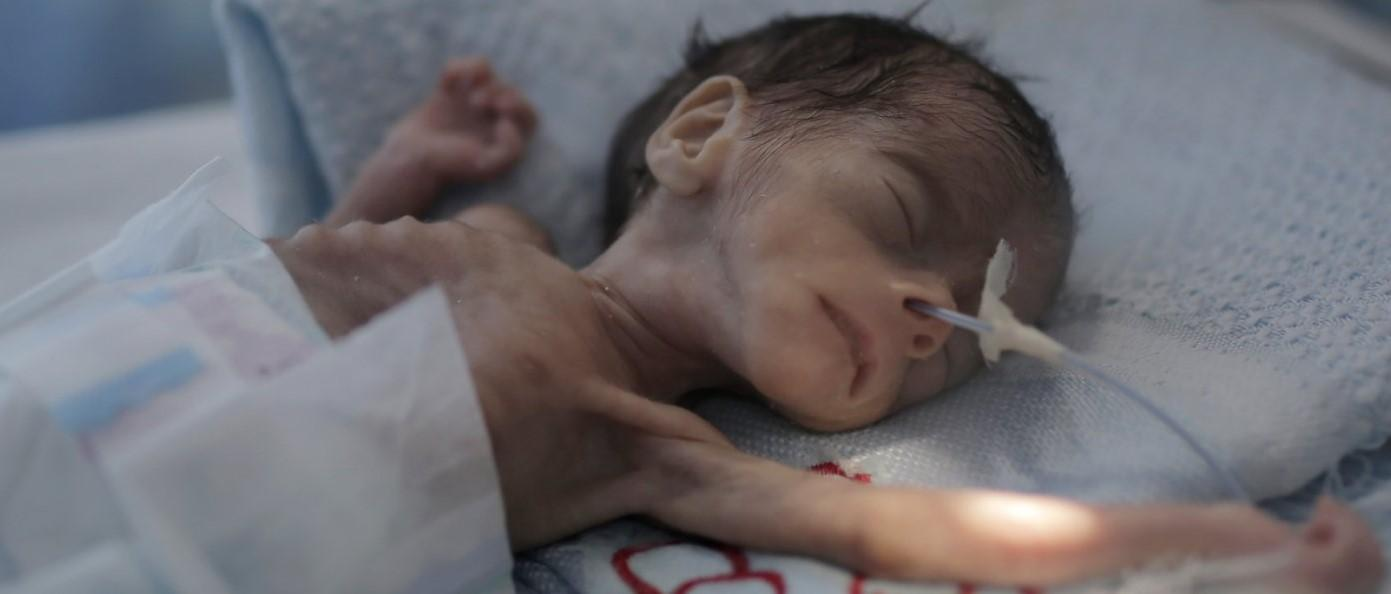Stunting: (628, 67, 1095, 443)
